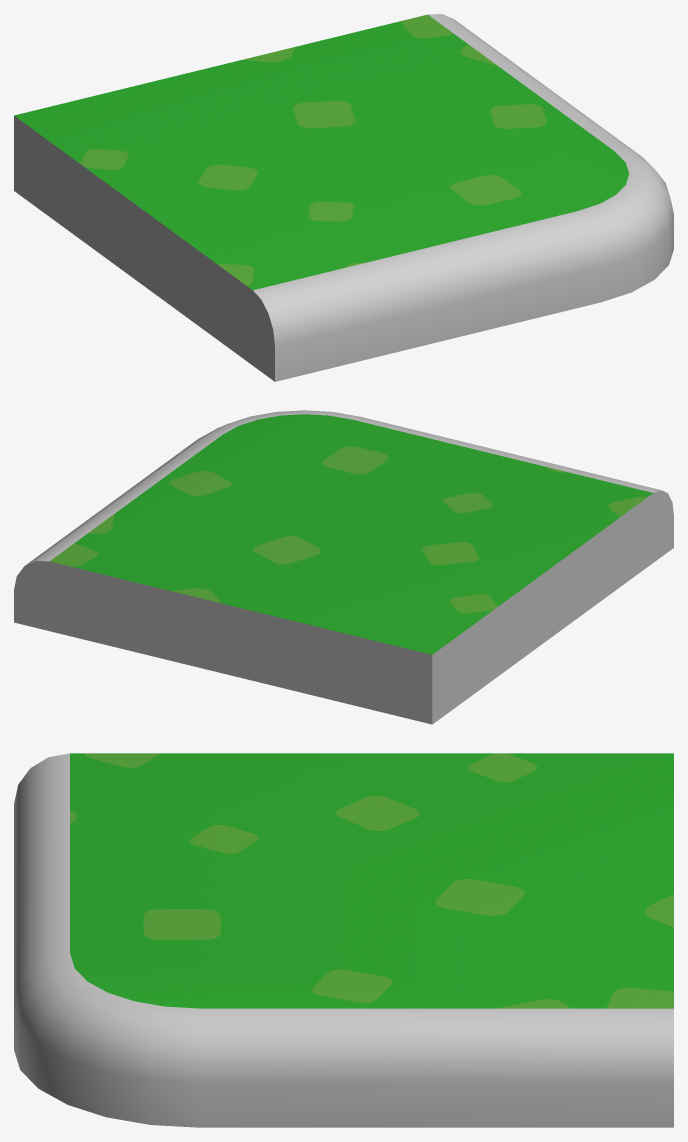
Rendered from GrassFloor_Corner_2.fbx.
The picture shows the model from 3 angles, top to bottom: view 1: azimuth 30°, elevation 25°; view 2: azimuth 150°, elevation 25°; view 3: azimuth 270°, elevation 25°; orthographic projection. The views are drawn at different scales.
Visible parts, largest first — view 1: GrassFloor_Corner_2; view 2: GrassFloor_Corner_2; view 3: GrassFloor_Corner_2.
Boxes of the visible parts, x1,y1,x2,y2 form: GrassFloor_Corner_2: (14, 14, 673, 381); GrassFloor_Corner_2: (14, 410, 673, 724); GrassFloor_Corner_2: (14, 753, 673, 1127).
Bounding box in the file's own units: 2 × 0.3187 × 2.
